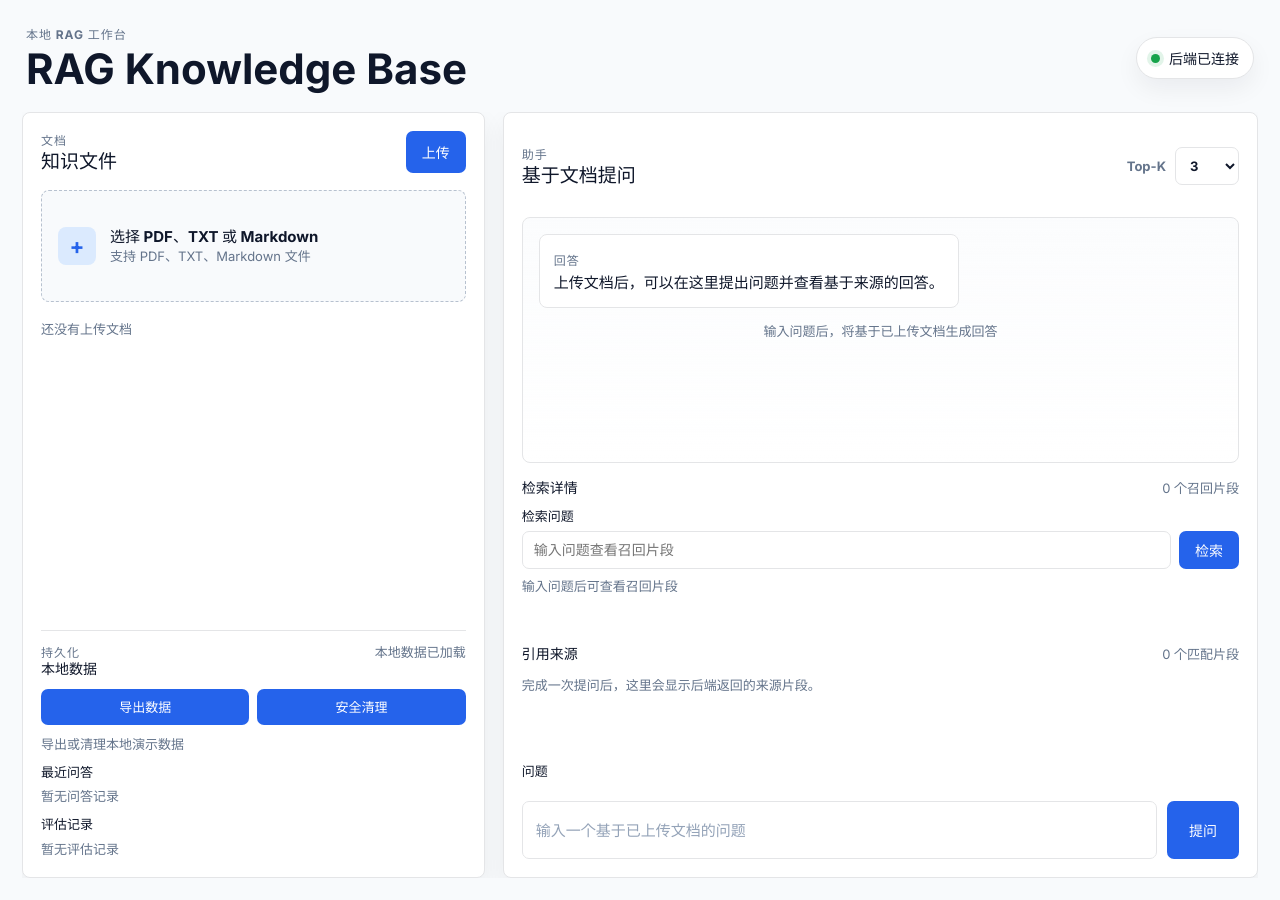
Scenario: App persistence workflow › exports and safely resets local persisted data
The image size is (1280, 900).
Check: the heading "本地数据" is shown, box x1=41 y1=660 x2=97 y2=679
Click the button "导出数据": (145, 707) x1=41 y1=689 x2=249 y2=725
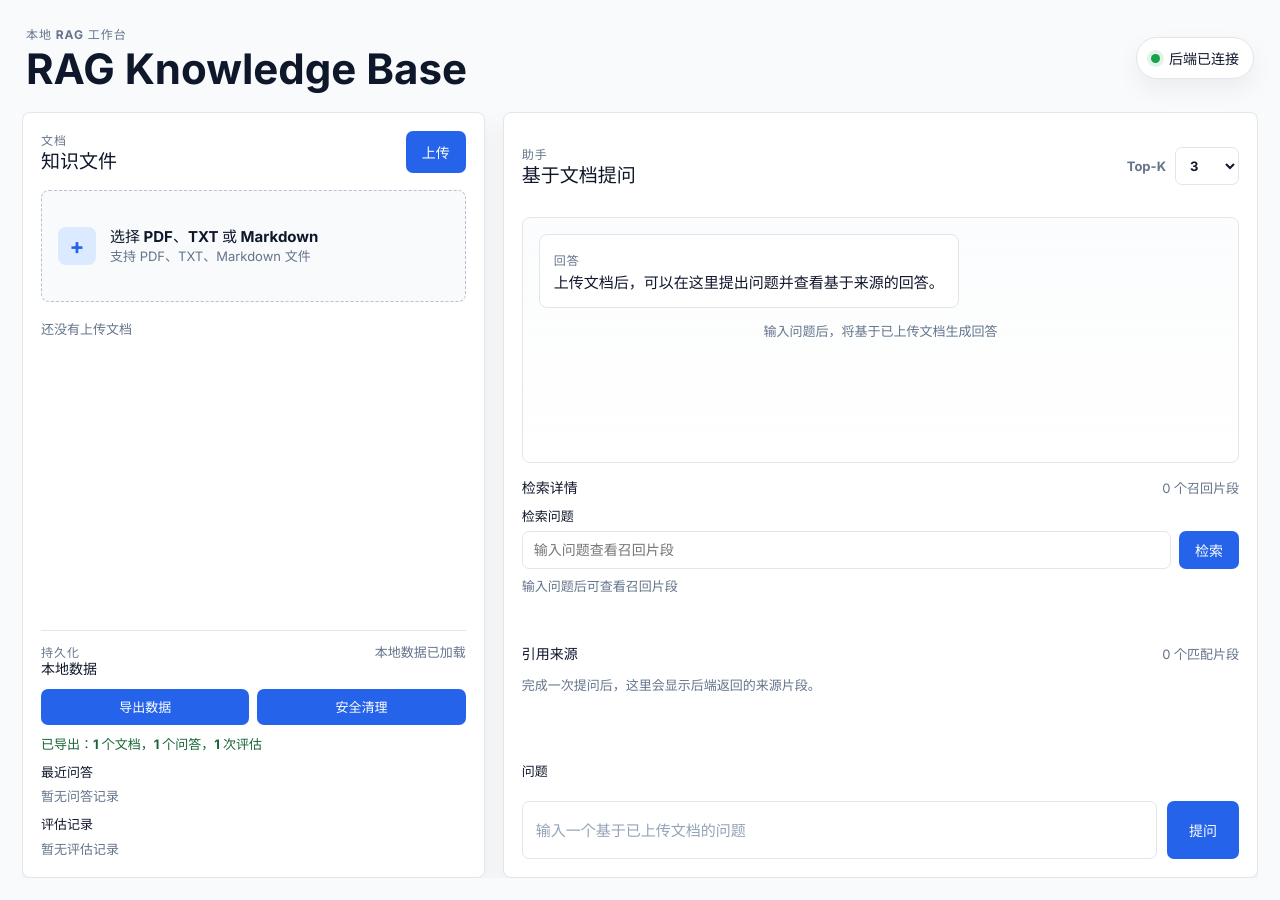
Check: the text "已导出：1 个文档，1 个问答，1 次评估" is shown, box x1=41 y1=736 x2=262 y2=752
Click the button "安全清理": (362, 707) x1=257 y1=689 x2=466 y2=725
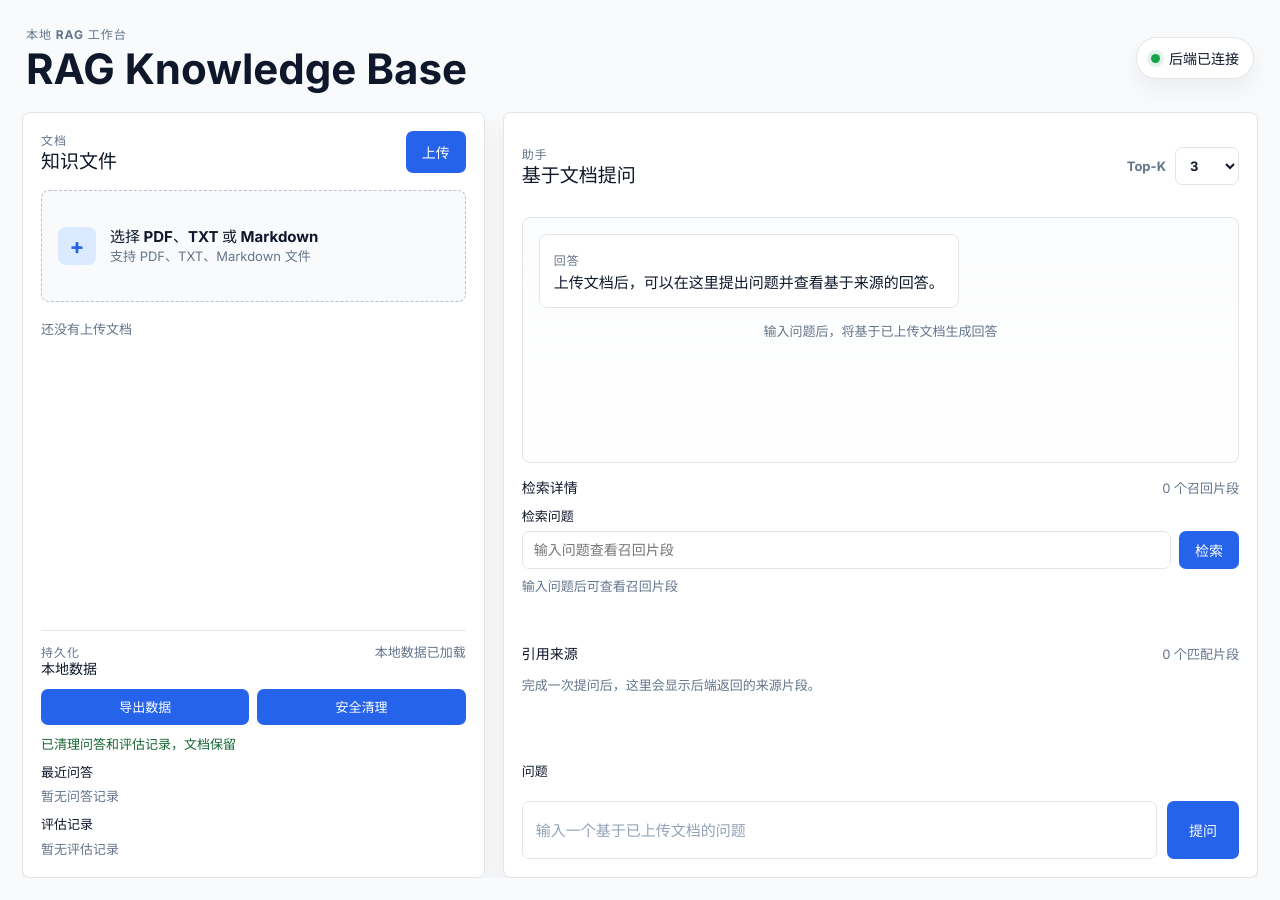
Check: the text "已清理问答和评估记录，文档保留" is shown, box x1=41 y1=736 x2=236 y2=752
